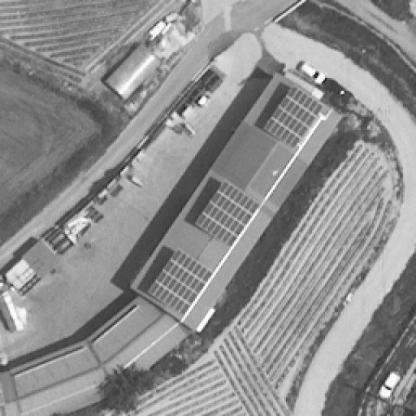solar-pv-panel: (194, 179, 260, 247), (147, 248, 214, 314), (262, 86, 323, 147)
